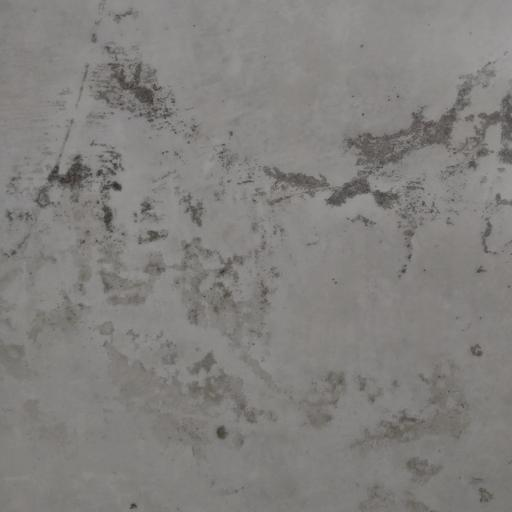peeling: (36, 21, 512, 468)
